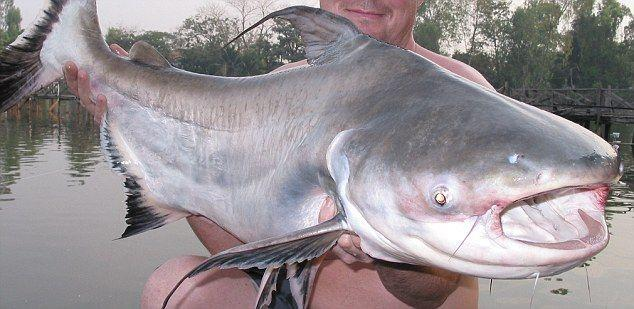Pangasius: (2, 1, 624, 308)
